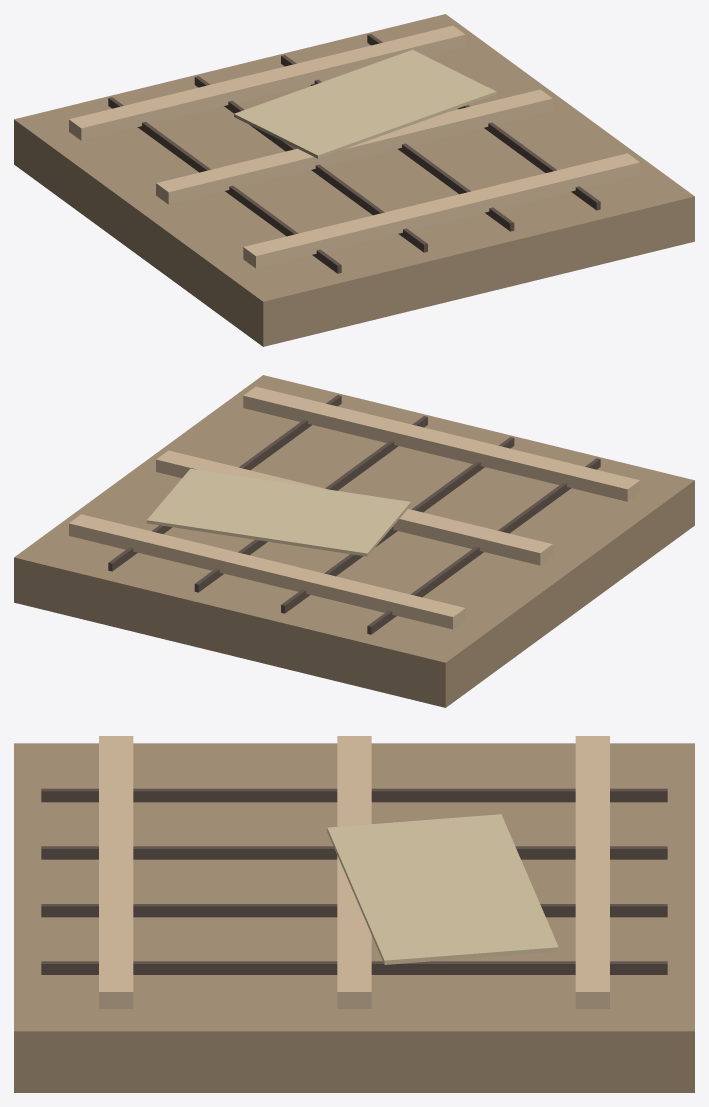
Rendered from mod_roof_wood.glb.
3 renders of one model, top to bottom at view 1: azimuth 30°, elevation 25°; view 2: azimuth 150°, elevation 25°; view 3: azimuth 270°, elevation 25°, orthographic. The views are drawn at different scales.
Parts seen in each view (by area): view 1: module_wood_roof_slab_core_2m, wood_roof_sand_patch, wood_roof_cross_batten_2, wood_roof_cross_batten_0, wood_roof_cross_batten_1, wood_roof_plank_gap_0, wood_roof_plank_gap_1, wood_roof_plank_gap_2, wood_roof_plank_gap_3; view 2: module_wood_roof_slab_core_2m, wood_roof_sand_patch, wood_roof_cross_batten_0, wood_roof_cross_batten_2, wood_roof_cross_batten_1, wood_roof_plank_gap_0, wood_roof_plank_gap_1, wood_roof_plank_gap_2, wood_roof_plank_gap_3; view 3: module_wood_roof_slab_core_2m, wood_roof_sand_patch, wood_roof_cross_batten_0, wood_roof_cross_batten_2, wood_roof_plank_gap_0, wood_roof_plank_gap_3, wood_roof_cross_batten_1, wood_roof_plank_gap_1, wood_roof_plank_gap_2.
Boxes of the visible parts, x1,y1,x2,y2 form: module_wood_roof_slab_core_2m: (14,14,694,346); wood_roof_sand_patch: (234,49,496,158); wood_roof_cross_batten_2: (243,153,639,268); wood_roof_cross_batten_0: (69,25,465,140); wood_roof_cross_batten_1: (156,89,552,204); wood_roof_plank_gap_0: (108,97,341,273); wood_roof_plank_gap_1: (194,76,427,252); wood_roof_plank_gap_2: (281,55,514,231); wood_roof_plank_gap_3: (367,34,600,210); module_wood_roof_slab_core_2m: (14,375,694,707); wood_roof_sand_patch: (146,468,410,556); wood_roof_cross_batten_0: (69,514,465,629); wood_roof_cross_batten_2: (243,386,639,501); wood_roof_cross_batten_1: (156,450,552,565); wood_roof_plank_gap_0: (367,458,600,634); wood_roof_plank_gap_1: (281,437,514,613); wood_roof_plank_gap_2: (194,416,427,592); wood_roof_plank_gap_3: (108,395,341,571); module_wood_roof_slab_core_2m: (14,743,694,1092); wood_roof_sand_patch: (327,814,558,964); wood_roof_cross_batten_0: (575,736,609,1008); wood_roof_cross_batten_2: (99,736,133,1008); wood_roof_plank_gap_0: (41,788,667,802); wood_roof_plank_gap_3: (41,961,667,974); wood_roof_cross_batten_1: (337,736,371,1008); wood_roof_plank_gap_1: (41,846,667,859); wood_roof_plank_gap_2: (41,904,667,917).
Size of the model in its own units: 2 by 0.293 by 2.
